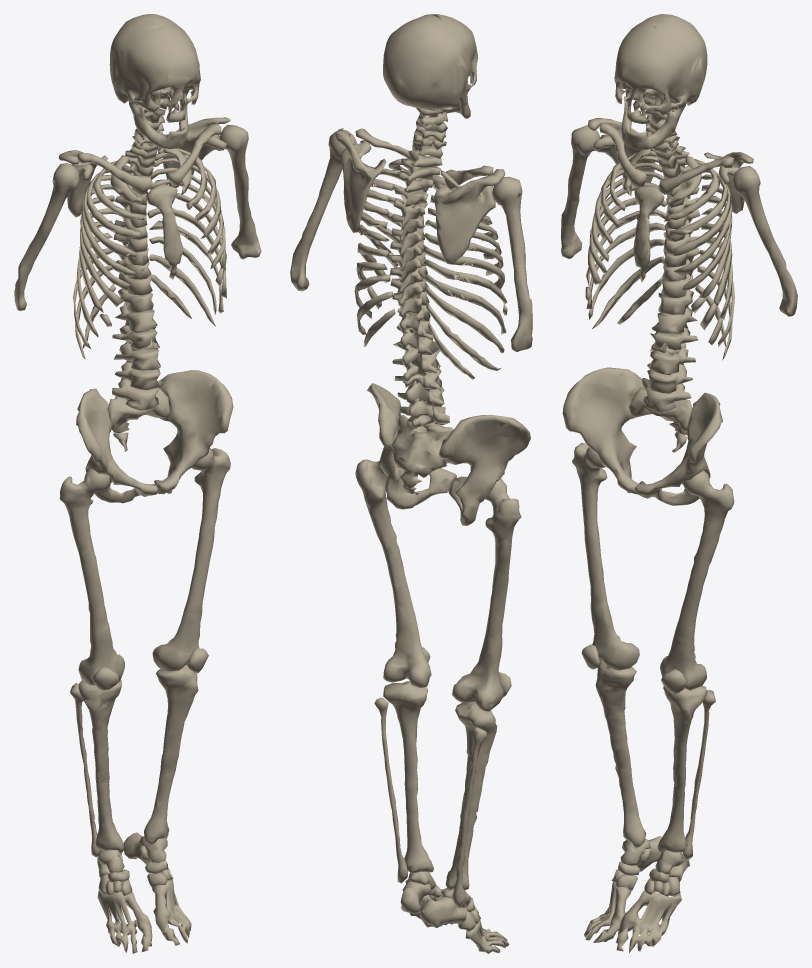
The model's file is vhf_denver_ct_adult_female.skeletal.LOD4.glb.
The picture shows the model from 3 angles, left to right: view 1: azimuth 30°, elevation 25°; view 2: azimuth 150°, elevation 25°; view 3: azimuth 330°, elevation 25°; orthographic projection. The views are drawn at different scales.
Parts seen in each view (by area): view 1: VHF_DENVER_CT.ADULT.FEMALE.SKELETAL.SKULL_CRANIUM_AND_MANDIB, VHF_DENVER_CT.ADULT.FEMALE.SKELETAL.HIP_BONE_OS_COXAE.L, VHF_DENVER_CT.ADULT.FEMALE.SKELETAL.FEMUR.R, VHF_DENVER_CT.ADULT.FEMALE.SKELETAL.FEMUR.L, VHF_DENVER_CT.ADULT.FEMALE.SKELETAL.TIBIA.L, VHF_DENVER_CT.ADULT.FEMALE.SKELETAL.METATARSALS_AND_PHALANGE (×2), VHF_DENVER_CT.ADULT.FEMALE.SKELETAL.HIP_BONE_OS_COXAE.R, VHF_DENVER_CT.ADULT.FEMALE.SKELETAL.TIBIA.R, VHF_DENVER_CT.ADULT.FEMALE.SKELETAL.HUMERUS.L, VHF_DENVER_CT.ADULT.FEMALE.SKELETAL.HUMERUS.R, VHF_DENVER_CT.ADULT.FEMALE.SKELETAL.STERNUM, VHF_DENVER_CT.ADULT.FEMALE.SKELETAL.VERTEBRA_L3 (+20 smaller); view 2: VHF_DENVER_CT.ADULT.FEMALE.SKELETAL.SKULL_CRANIUM_AND_MANDIB, VHF_DENVER_CT.ADULT.FEMALE.SKELETAL.HIP_BONE_OS_COXAE.R, VHF_DENVER_CT.ADULT.FEMALE.SKELETAL.FEMUR.L, VHF_DENVER_CT.ADULT.FEMALE.SKELETAL.FEMUR.R, VHF_DENVER_CT.ADULT.FEMALE.SKELETAL.SCAPULA.R, VHF_DENVER_CT.ADULT.FEMALE.SKELETAL.TIBIA.L, VHF_DENVER_CT.ADULT.FEMALE.SKELETAL.HIP_BONE_OS_COXAE.L, VHF_DENVER_CT.ADULT.FEMALE.SKELETAL.TIBIA.R, VHF_DENVER_CT.ADULT.FEMALE.SKELETAL.HUMERUS.R, VHF_DENVER_CT.ADULT.FEMALE.SKELETAL.SACRUM, VHF_DENVER_CT.ADULT.FEMALE.SKELETAL.SCAPULA.L, VHF_DENVER_CT.ADULT.FEMALE.SKELETAL.HUMERUS.L (+16 smaller); view 3: VHF_DENVER_CT.ADULT.FEMALE.SKELETAL.SKULL_CRANIUM_AND_MANDIB, VHF_DENVER_CT.ADULT.FEMALE.SKELETAL.HIP_BONE_OS_COXAE.R, VHF_DENVER_CT.ADULT.FEMALE.SKELETAL.FEMUR.L, VHF_DENVER_CT.ADULT.FEMALE.SKELETAL.FEMUR.R, VHF_DENVER_CT.ADULT.FEMALE.SKELETAL.TIBIA.R, VHF_DENVER_CT.ADULT.FEMALE.SKELETAL.METATARSALS_AND_PHALANGE (×2), VHF_DENVER_CT.ADULT.FEMALE.SKELETAL.HIP_BONE_OS_COXAE.L, VHF_DENVER_CT.ADULT.FEMALE.SKELETAL.TIBIA.L, VHF_DENVER_CT.ADULT.FEMALE.SKELETAL.HUMERUS.L, VHF_DENVER_CT.ADULT.FEMALE.SKELETAL.HUMERUS.R, VHF_DENVER_CT.ADULT.FEMALE.SKELETAL.STERNUM, VHF_DENVER_CT.ADULT.FEMALE.SKELETAL.VERTEBRA_L3 (+23 smaller).
Boxes of the visible parts, <box> form: VHF_DENVER_CT.ADULT.FEMALE.SKELETAL.SKULL_CRANIUM_AND_MANDIB: <box>109,14,200,149</box>; VHF_DENVER_CT.ADULT.FEMALE.SKELETAL.HIP_BONE_OS_COXAE.L: <box>154,370,233,494</box>; VHF_DENVER_CT.ADULT.FEMALE.SKELETAL.FEMUR.R: <box>59,468,124,685</box>; VHF_DENVER_CT.ADULT.FEMALE.SKELETAL.FEMUR.L: <box>152,448,230,671</box>; VHF_DENVER_CT.ADULT.FEMALE.SKELETAL.TIBIA.L: <box>144,665,198,844</box>; VHF_DENVER_CT.ADULT.FEMALE.SKELETAL.METATARSALS_AND_PHALANGE (×2): <box>97,880,191,953</box>; VHF_DENVER_CT.ADULT.FEMALE.SKELETAL.HIP_BONE_OS_COXAE.R: <box>76,388,158,503</box>; VHF_DENVER_CT.ADULT.FEMALE.SKELETAL.TIBIA.R: <box>78,680,124,854</box>; VHF_DENVER_CT.ADULT.FEMALE.SKELETAL.HUMERUS.L: <box>219,124,261,259</box>; VHF_DENVER_CT.ADULT.FEMALE.SKELETAL.HUMERUS.R: <box>14,163,79,310</box>; VHF_DENVER_CT.ADULT.FEMALE.SKELETAL.STERNUM: <box>146,183,182,279</box>; VHF_DENVER_CT.ADULT.FEMALE.SKELETAL.VERTEBRA_L3: <box>112,325,160,370</box>; VHF_DENVER_CT.ADULT.FEMALE.SKELETAL.SKULL_CRANIUM_AND_MANDIB: <box>383,14,477,118</box>; VHF_DENVER_CT.ADULT.FEMALE.SKELETAL.HIP_BONE_OS_COXAE.R: <box>438,414,530,525</box>; VHF_DENVER_CT.ADULT.FEMALE.SKELETAL.FEMUR.L: <box>355,459,431,687</box>; VHF_DENVER_CT.ADULT.FEMALE.SKELETAL.FEMUR.R: <box>452,478,521,711</box>; VHF_DENVER_CT.ADULT.FEMALE.SKELETAL.SCAPULA.R: <box>434,169,505,264</box>; VHF_DENVER_CT.ADULT.FEMALE.SKELETAL.TIBIA.L: <box>383,681,433,873</box>; VHF_DENVER_CT.ADULT.FEMALE.SKELETAL.HIP_BONE_OS_COXAE.L: <box>367,383,456,509</box>; VHF_DENVER_CT.ADULT.FEMALE.SKELETAL.TIBIA.R: <box>445,702,497,890</box>; VHF_DENVER_CT.ADULT.FEMALE.SKELETAL.HUMERUS.R: <box>492,176,532,351</box>; VHF_DENVER_CT.ADULT.FEMALE.SKELETAL.SACRUM: <box>391,414,453,488</box>; VHF_DENVER_CT.ADULT.FEMALE.SKELETAL.SCAPULA.L: <box>335,128,386,232</box>; VHF_DENVER_CT.ADULT.FEMALE.SKELETAL.HUMERUS.L: <box>290,130,356,291</box>; VHF_DENVER_CT.ADULT.FEMALE.SKELETAL.SKULL_CRANIUM_AND_MANDIB: <box>614,14,707,149</box>; VHF_DENVER_CT.ADULT.FEMALE.SKELETAL.HIP_BONE_OS_COXAE.R: <box>562,367,643,494</box>; VHF_DENVER_CT.ADULT.FEMALE.SKELETAL.FEMUR.L: <box>660,470,734,690</box>; VHF_DENVER_CT.ADULT.FEMALE.SKELETAL.FEMUR.R: <box>572,443,639,670</box>; VHF_DENVER_CT.ADULT.FEMALE.SKELETAL.TIBIA.R: <box>595,662,646,849</box>; VHF_DENVER_CT.ADULT.FEMALE.SKELETAL.METATARSALS_AND_PHALANGE (×2): <box>584,881,681,953</box>; VHF_DENVER_CT.ADULT.FEMALE.SKELETAL.HIP_BONE_OS_COXAE.L: <box>635,392,722,505</box>; VHF_DENVER_CT.ADULT.FEMALE.SKELETAL.TIBIA.L: <box>657,686,707,852</box>; VHF_DENVER_CT.ADULT.FEMALE.SKELETAL.HUMERUS.L: <box>733,166,797,316</box>; VHF_DENVER_CT.ADULT.FEMALE.SKELETAL.HUMERUS.R: <box>561,125,599,258</box>; VHF_DENVER_CT.ADULT.FEMALE.SKELETAL.STERNUM: <box>633,185,664,282</box>; VHF_DENVER_CT.ADULT.FEMALE.SKELETAL.VERTEBRA_L3: <box>649,327,698,375</box>.
Size of the model in its own units: 0.466 by 1.72 by 0.2192.
